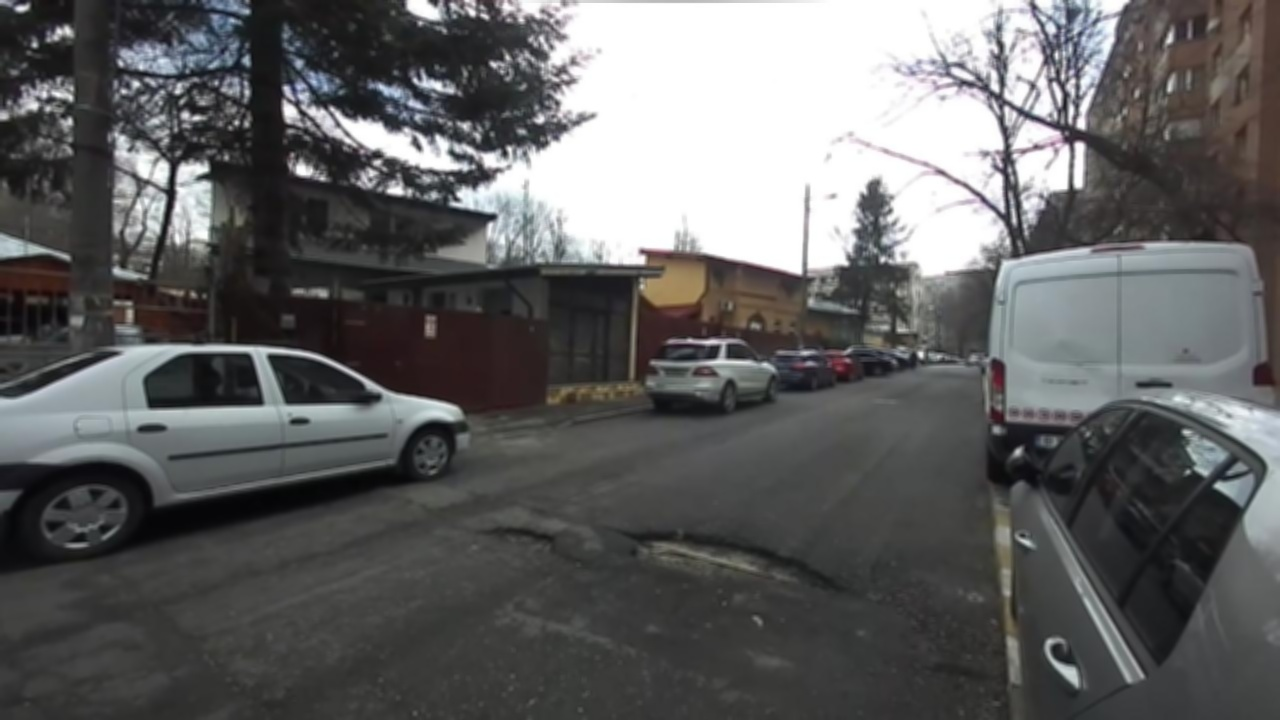pothole: (610, 521, 862, 600), (475, 522, 583, 569)
